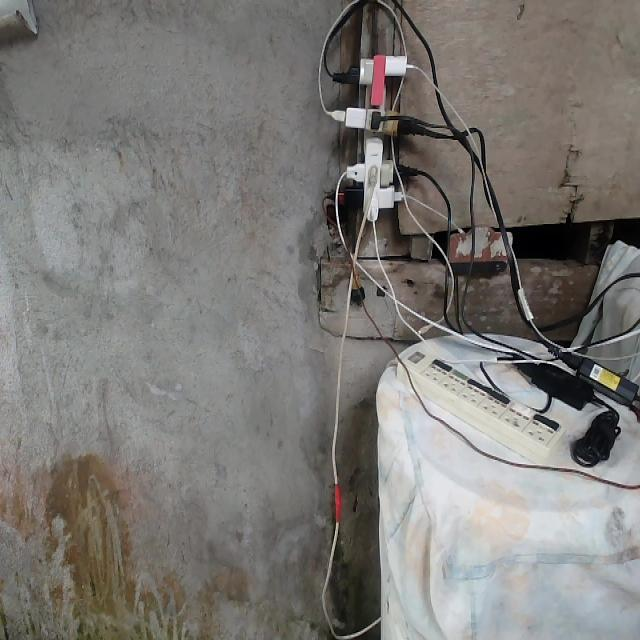-: (328, 51, 420, 230)
